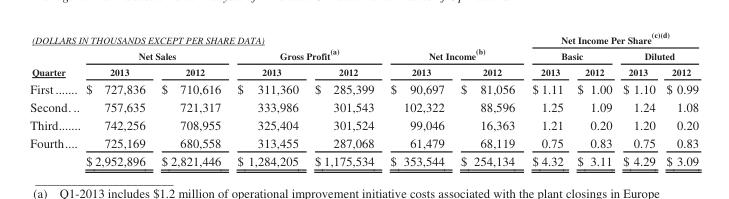table: (29, 29, 698, 168)
table column: (228, 29, 306, 168), (75, 29, 152, 168), (152, 29, 228, 168), (306, 29, 381, 168), (451, 29, 522, 168), (381, 29, 451, 168), (522, 29, 569, 168), (569, 29, 616, 168), (29, 29, 75, 168), (616, 29, 660, 168), (660, 29, 698, 168)
table column header: (29, 29, 698, 78)
table row: (29, 45, 698, 63), (29, 78, 698, 96), (29, 96, 698, 114), (29, 114, 698, 132), (29, 132, 698, 150), (29, 150, 698, 168), (29, 29, 698, 45), (29, 63, 698, 78)
table spanning cell: (29, 29, 522, 45), (522, 29, 698, 45), (75, 45, 228, 63), (228, 45, 381, 63), (381, 45, 522, 63), (522, 45, 616, 63), (29, 45, 75, 78), (616, 45, 698, 63)
